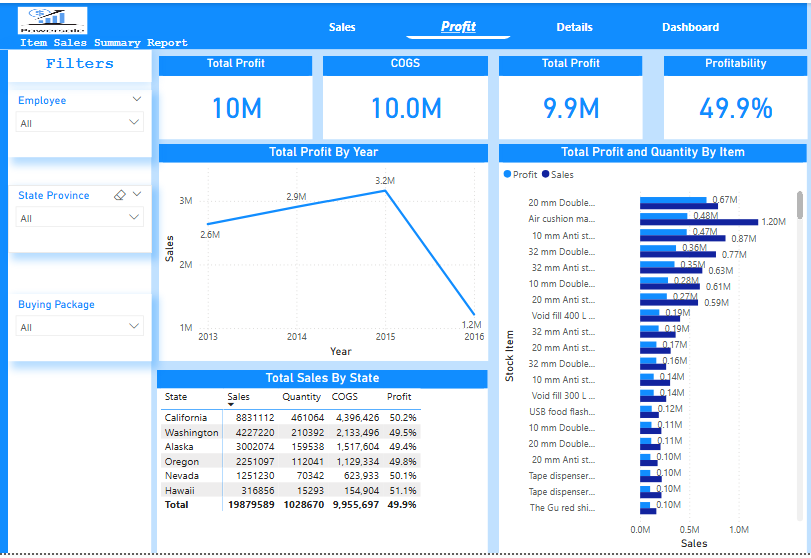

The dashboard page shown, as its layout file describes it:
{"tool":"powerbi","page":{"name":"Profit","canvas":[1280,720],"ordinal":1},"visuals":[{"type":"shape","box":[12.2,61.1,187.8,473.3],"z":0},{"type":"shape","box":[0,0,1057.8,61.1],"z":1000},{"type":"image","box":[20,0,101.1,45.6],"z":2000},{"type":"textbox","box":[22,36,244.4,32],"z":3000},{"type":"shape","box":[0,61.1,12.2,658.9],"z":4000},{"type":"card","title":"Total Profit","fields":{"Values":["Sum(FactSale.Profit)"]},"box":[208.9,70,201.1,108.9],"z":5000},{"type":"card","title":"COGS","fields":{"Values":["FactSale.COGS"]},"box":[424.4,70,215.6,108.9],"z":6000},{"type":"card","title":"Profitability","fields":{"Values":["FactSale.Profitabilty"]},"box":[870,70,187.8,108.9],"z":7000},{"type":"card","title":"Total Profit","fields":{"Values":["Sum(FactSale.Profit)"]},"box":[654.4,70,187.8,108.9],"z":8000},{"type":"lineChart","title":"Total Profit By Year","fields":{"Category":["DimDate.Date.Variation.Date Hierarchy.Year","DimDate.Date.Variation.Date Hierarchy.Quarter","DimDate.Date.Variation.Date Hierarchy.Month","DimDate.Date.Variation.Date Hierarchy.Day"],"Y":["Sum(FactSale.Profit)"]},"box":[208.9,184.4,431.1,284.4],"z":9000},{"type":"clusteredBarChart","title":"Total Profit and Quantity By Item","fields":{"Category":["DimStockItem.Stock Item"],"Y":["Sum(FactSale.Profit)","Sum(FactSale.Total Excluding Tax)"]},"box":[654.4,184.4,403.3,535.6],"z":10000},{"type":"pivotTable","title":"Total Sales By State","fields":{"Values":["Sum(FactSale.Total Excluding Tax)","Sum(FactSale.Quantity)","FactSale.COGS","FactSale.Profitabilty"],"Rows":["DimCity.State Province"]},"box":[206.7,480,433.3,240],"z":11000},{"type":"shape","box":[12.2,61.1,187.8,658.9],"z":12000},{"type":"slicer","fields":{"Values":["DimEmployee.Employee"]},"box":[12.2,114.4,187.8,87.8],"z":13000},{"type":"textbox","box":[12.2,61.1,187.8,42.2],"z":14000},{"type":"slicer","title":"State","fields":{"Values":["DimCity.State Province"]},"box":[12.2,238.9,187.8,87.8],"z":15000},{"type":"slicer","fields":{"Values":["DimStockItem.Buying Package"]},"box":[12.2,381.1,187.8,87.8],"z":16000},{"type":"pageNavigator","box":[377.8,13.3,600,34.4],"z":17000}]}

Visuals, with their boxes on the page's 1280x720 design canvas (x1, y1, x2, y2). These are canvas units, not pixel positions in the 811x558 screenshot, which may show the page scaled, cropped or inside an application window:
shape: Rect(12, 61, 200, 534)
shape: Rect(0, 0, 1058, 61)
image: Rect(20, 0, 121, 46)
textbox: Rect(22, 36, 266, 68)
shape: Rect(0, 61, 12, 720)
"Total Profit" card: Rect(209, 70, 410, 179)
"COGS" card: Rect(424, 70, 640, 179)
"Profitability" card: Rect(870, 70, 1058, 179)
"Total Profit" card: Rect(654, 70, 842, 179)
"Total Profit By Year" lineChart: Rect(209, 184, 640, 469)
"Total Profit and Quantity By Item" clusteredBarChart: Rect(654, 184, 1058, 720)
"Total Sales By State" pivotTable: Rect(207, 480, 640, 720)
shape: Rect(12, 61, 200, 720)
slicer - DimEmployee.Employee: Rect(12, 114, 200, 202)
textbox: Rect(12, 61, 200, 103)
"State" slicer: Rect(12, 239, 200, 327)
slicer - DimStockItem.Buying Package: Rect(12, 381, 200, 469)
pageNavigator: Rect(378, 13, 978, 48)
